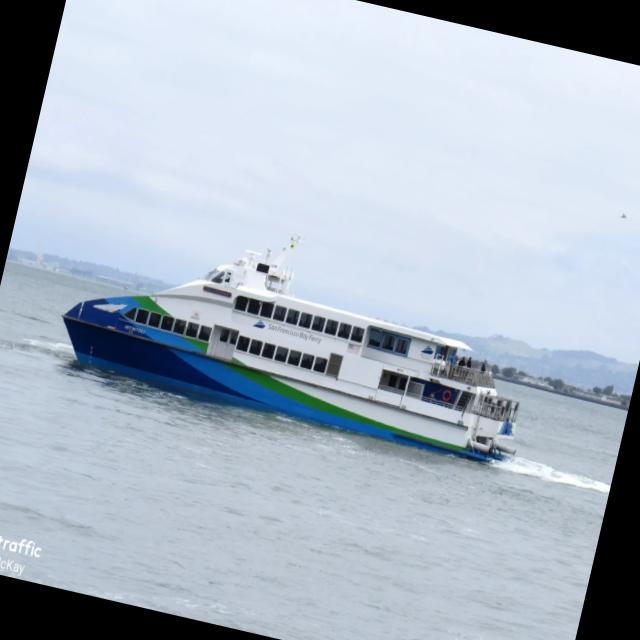Passenger: (62, 239, 519, 460)
